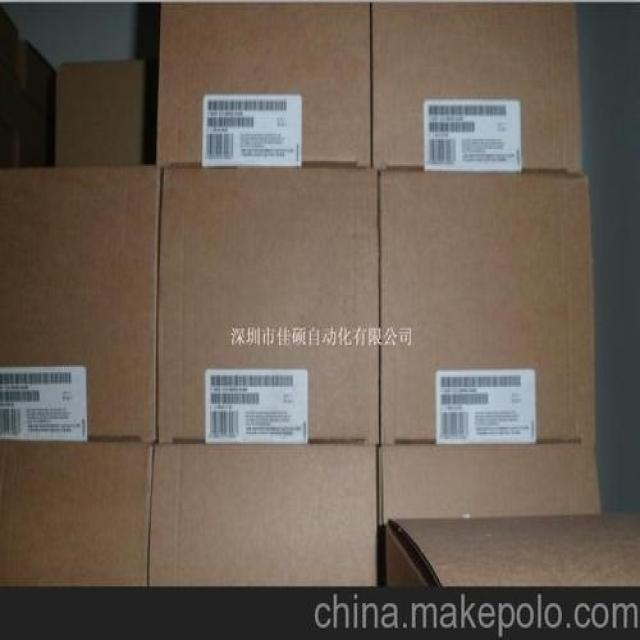box: (156, 162, 381, 446), (379, 165, 594, 447), (0, 161, 161, 441), (156, 1, 372, 167), (372, 4, 583, 166), (151, 442, 379, 588), (0, 438, 158, 585), (378, 513, 639, 590), (381, 445, 600, 518), (53, 58, 158, 165), (19, 39, 56, 123), (18, 86, 55, 168), (0, 74, 18, 169), (1, 5, 21, 87)
